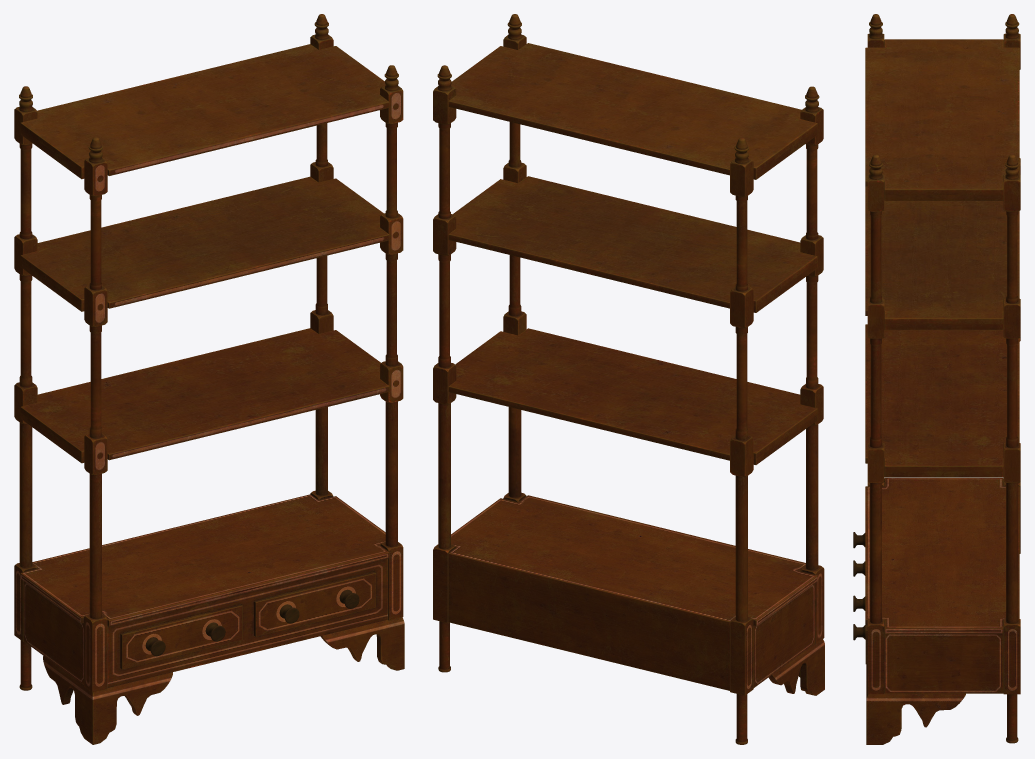
Rendered from shelf.glb.
3 renders of one model, left to right at view 1: azimuth 30°, elevation 25°; view 2: azimuth 150°, elevation 25°; view 3: azimuth 270°, elevation 25°, orthographic. The views are drawn at different scales.
Parts seen in each view (by area): view 1: 1800s Victorian Tiered Open-Shelf Dark.001; view 2: 1800s Victorian Tiered Open-Shelf Dark.001; view 3: 1800s Victorian Tiered Open-Shelf Dark.001.
Part boxes in pixels (x1,y1,x2,y2): 1800s Victorian Tiered Open-Shelf Dark.001: [14, 14, 404, 744]; 1800s Victorian Tiered Open-Shelf Dark.001: [433, 14, 824, 744]; 1800s Victorian Tiered Open-Shelf Dark.001: [853, 14, 1020, 744].
Bounding box in the file's own units: 1.02 × 1.85 × 0.4779.
Materials: 1 (1 with a texture image).
